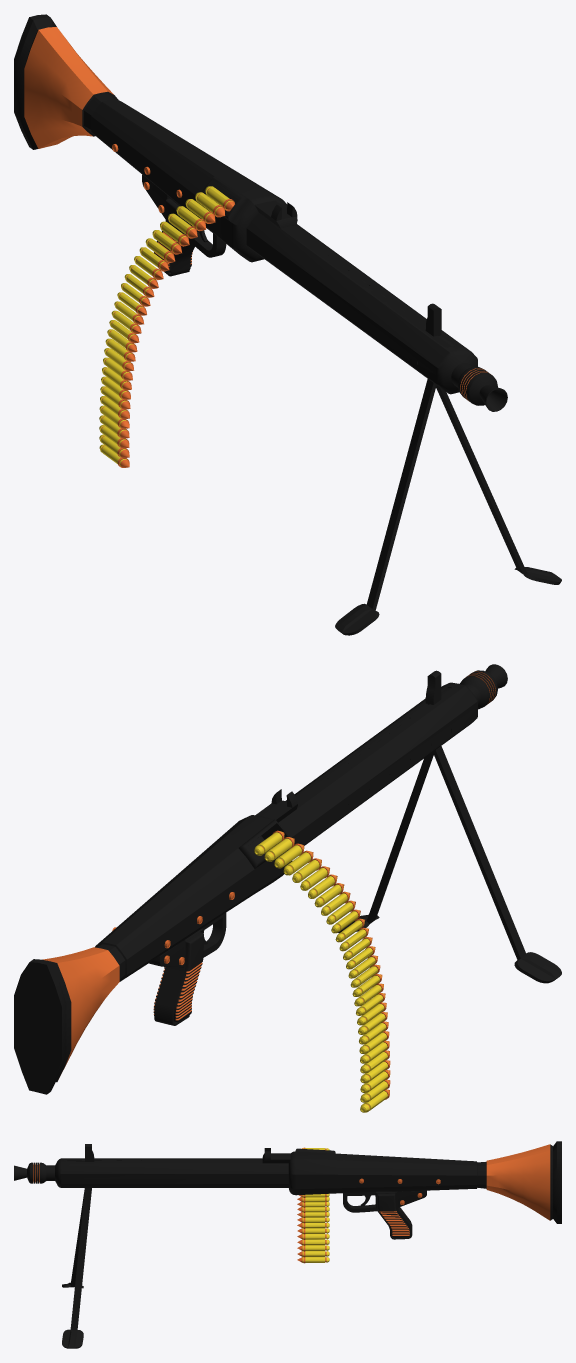
The picture shows the model from 3 angles, top to bottom: view 1: azimuth 30°, elevation 25°; view 2: azimuth 150°, elevation 25°; view 3: azimuth 270°, elevation 25°; orthographic projection. The views are drawn at different scales.
Visible parts, largest first — view 1: MG42, Ammo, BiPod; view 2: MG42, Ammo, BiPod; view 3: MG42, Ammo, BiPod.
Boxes of the visible parts, bbox=[...] form: MG42: bbox=[14, 14, 507, 411]; Ammo: bbox=[99, 186, 234, 467]; BiPod: bbox=[335, 379, 561, 635]; MG42: bbox=[14, 664, 507, 1094]; Ammo: bbox=[254, 830, 390, 1112]; BiPod: bbox=[338, 746, 561, 983]; MG42: bbox=[14, 1141, 561, 1239]; Ammo: bbox=[297, 1147, 329, 1263]; BiPod: bbox=[62, 1188, 91, 1348].
Size of the model in its own units: 38.83 by 126 by 43.95.
